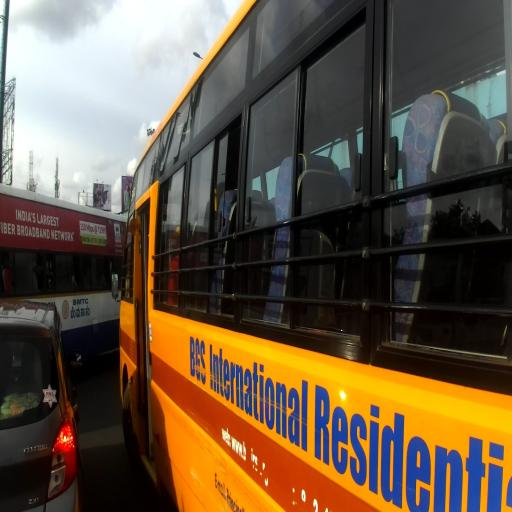street_light_0: (192, 51, 204, 60)
